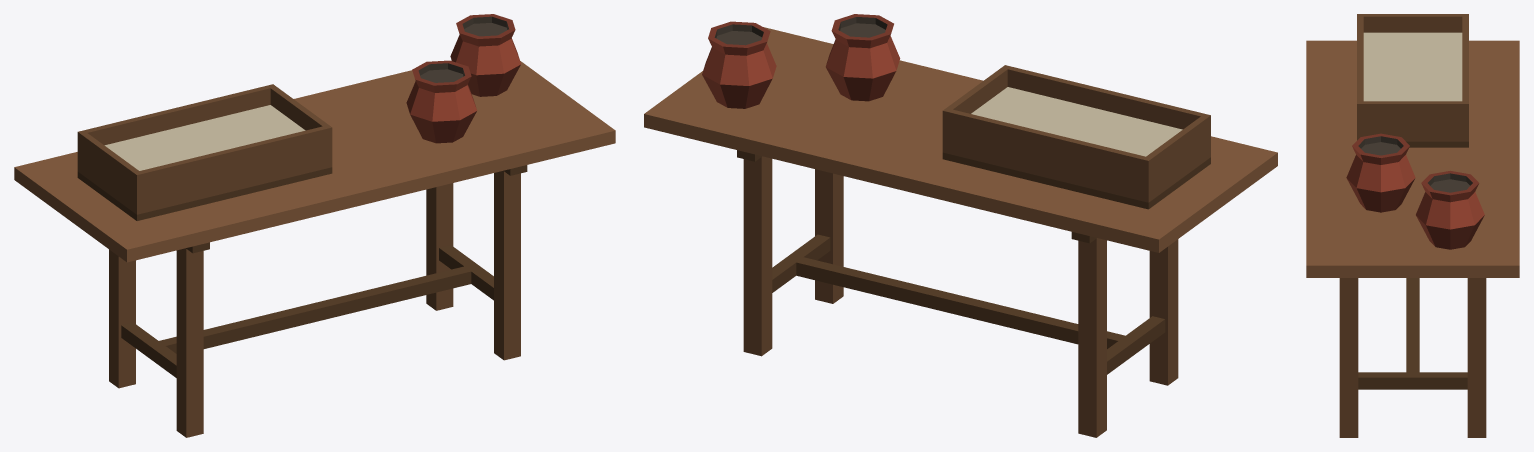
File: kitchen-worktable.glb
The picture shows the model from 3 angles, left to right: view 1: azimuth 30°, elevation 25°; view 2: azimuth 150°, elevation 25°; view 3: azimuth 270°, elevation 25°; orthographic projection. The views are drawn at different scales.
Visible parts, largest first — view 1: kitchen-worktable; view 2: kitchen-worktable; view 3: kitchen-worktable.
Part boxes in pixels (left/top/right/bottom): kitchen-worktable: left=14, top=14, right=615, bottom=437; kitchen-worktable: left=644, top=14, right=1277, bottom=437; kitchen-worktable: left=1306, top=14, right=1519, bottom=437.
Size of the model in its own units: 2 by 1.1 by 0.7999.
Materials: 1 (1 with a texture image).
